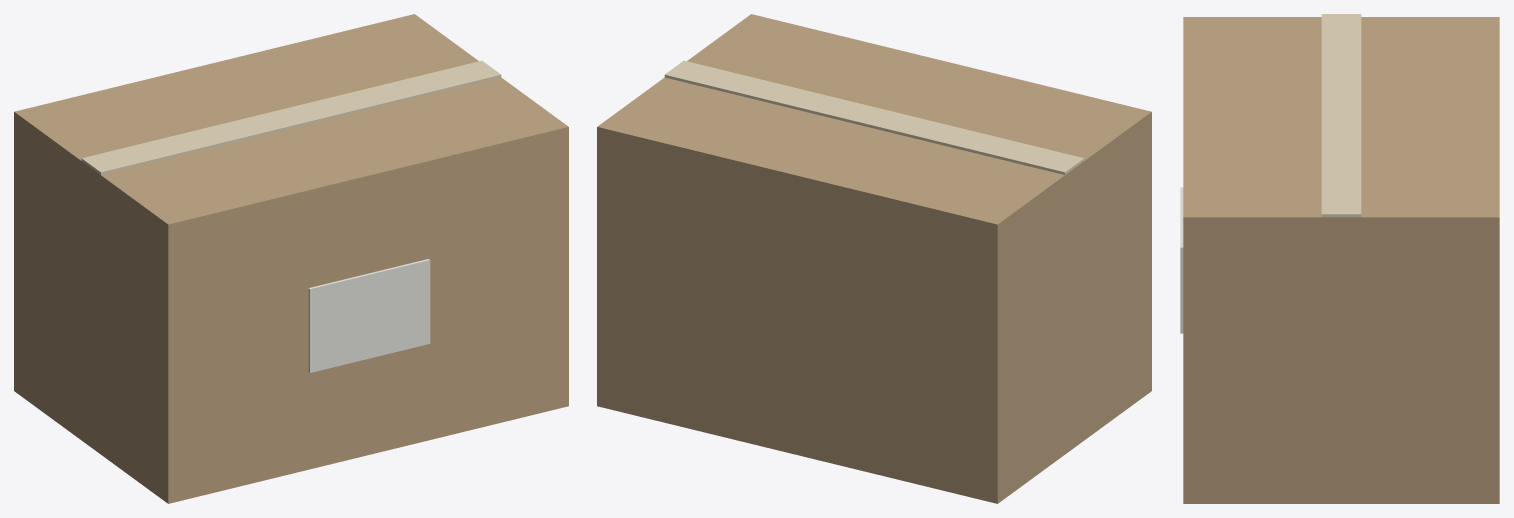
The model's file is box-medium.glb.
3 renders of one model, left to right at view 1: azimuth 30°, elevation 25°; view 2: azimuth 150°, elevation 25°; view 3: azimuth 270°, elevation 25°, orthographic. The views are drawn at different scales.
Visible parts, largest first — view 1: Prop_BoxMedium_mesh; view 2: Prop_BoxMedium_mesh; view 3: Prop_BoxMedium_mesh.
Boxes of the visible parts, left/top/right/bottom form: Prop_BoxMedium_mesh: left=14, top=14, right=568, bottom=503; Prop_BoxMedium_mesh: left=597, top=14, right=1151, bottom=503; Prop_BoxMedium_mesh: left=1180, top=14, right=1499, bottom=503.
Size of the model in its own units: 0.6 by 0.404 by 0.404.
